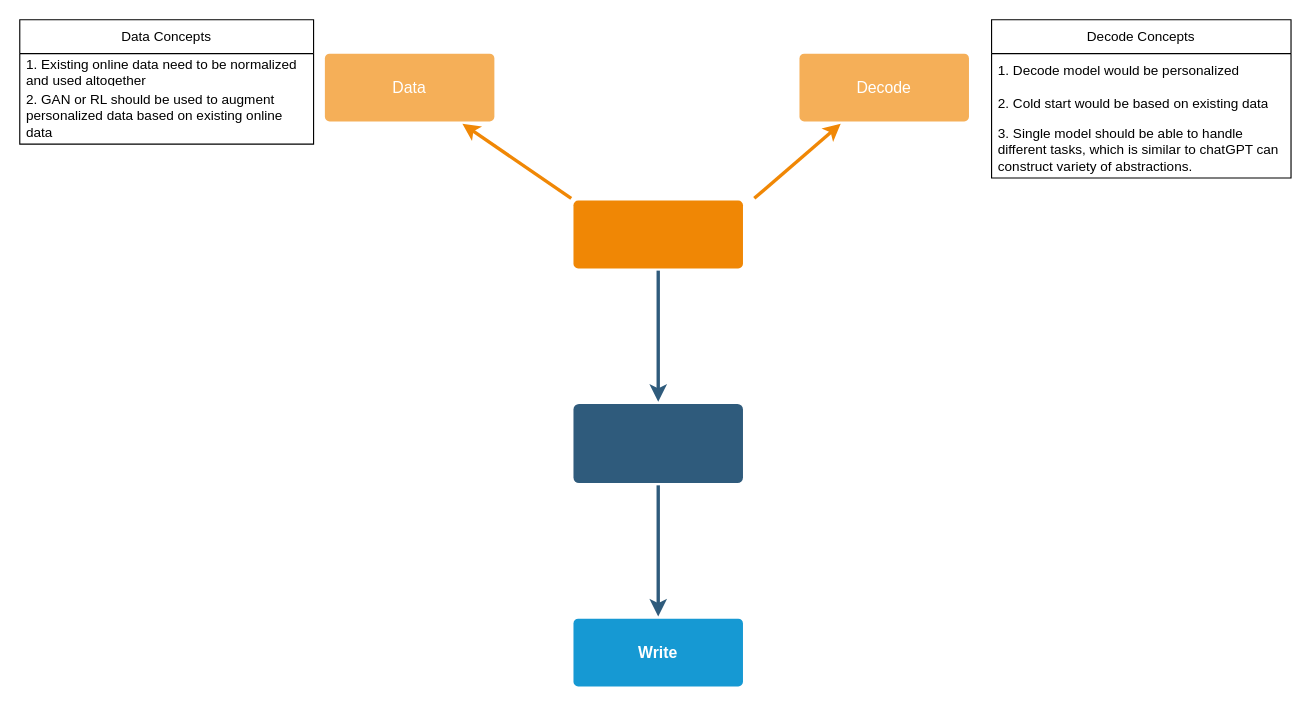
The diagram is 1311 pixels wide and 706 high, and some of its shapes have lost their labels. Here are the shapes that lost their labels. From the top down, the centre of each, then its label:
(657,234): Read
(657,443): Seed
